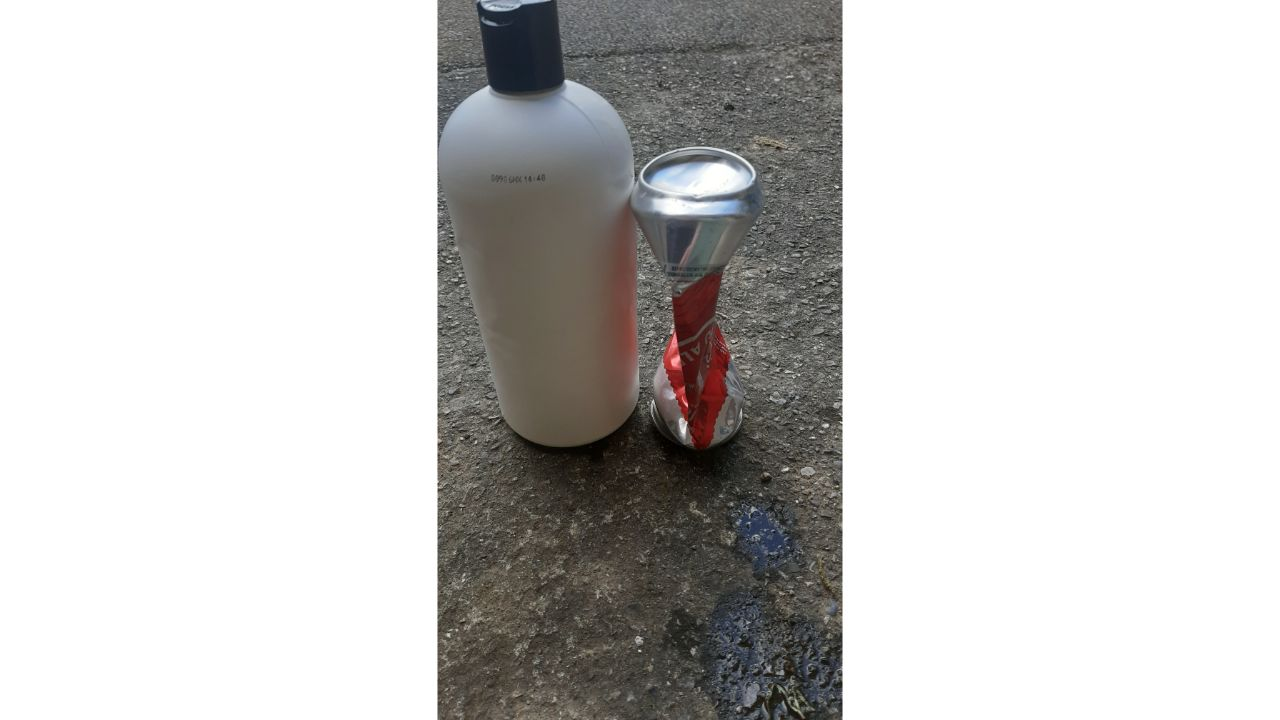Can: (621, 139, 770, 462)
